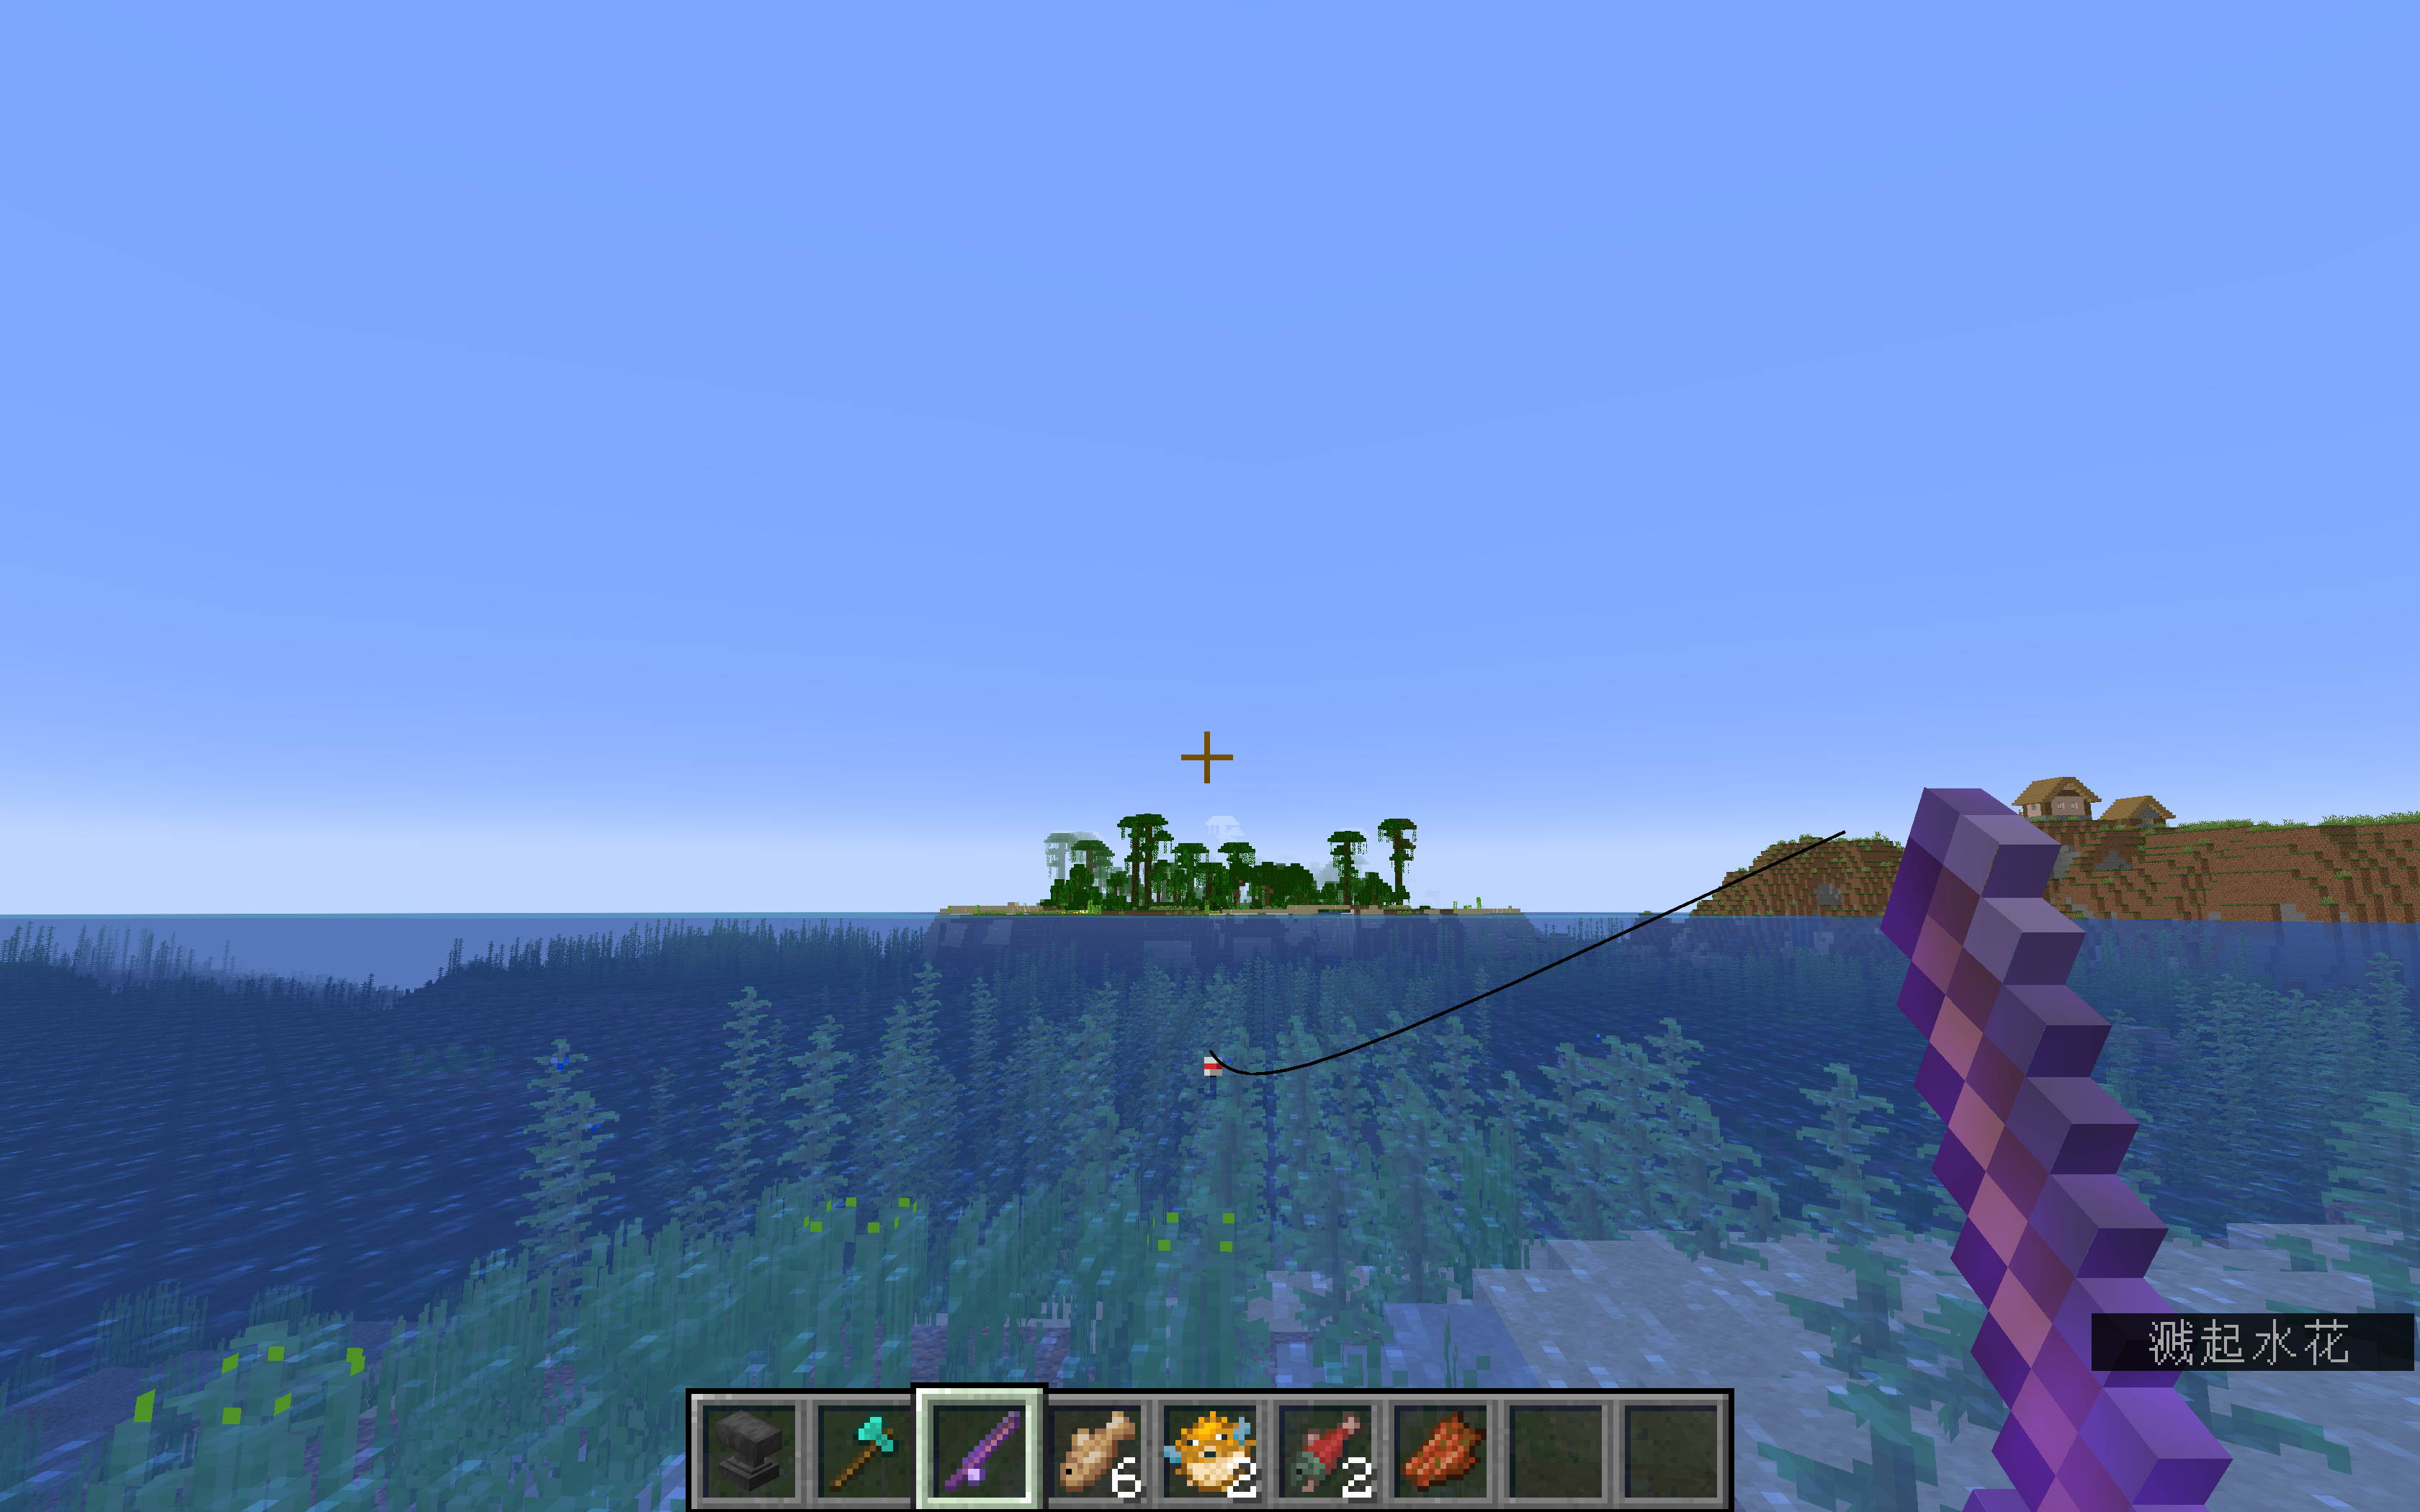inf: (2094, 1313, 2413, 1371)
